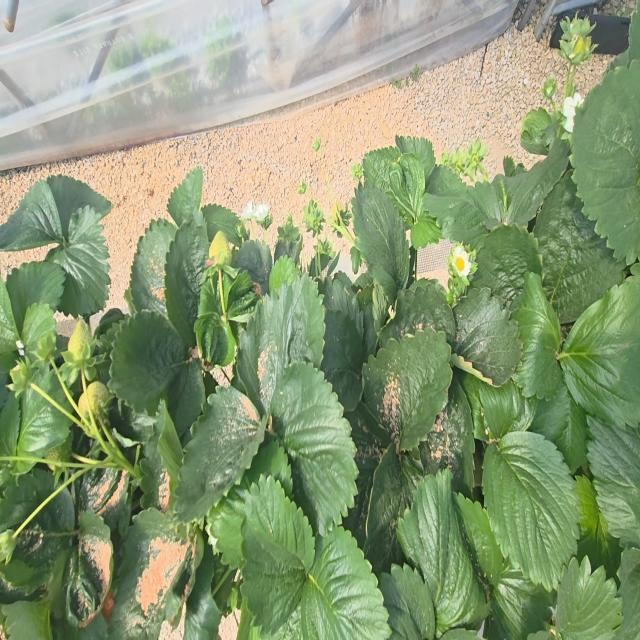Flowers: (562, 93, 583, 133), (451, 246, 471, 276), (252, 205, 272, 230), (240, 202, 253, 220)
Leaves: (482, 433, 579, 590), (270, 361, 358, 532), (399, 471, 486, 636), (570, 59, 640, 264), (533, 171, 623, 326), (175, 388, 267, 520), (237, 279, 324, 415), (241, 475, 314, 635), (560, 281, 640, 424), (105, 509, 192, 639), (362, 329, 452, 451), (300, 525, 391, 639), (0, 489, 75, 602), (109, 311, 188, 411), (364, 443, 423, 573), (352, 183, 410, 301), (452, 288, 521, 386), (49, 205, 110, 315), (588, 420, 640, 547), (512, 272, 562, 399), (420, 380, 474, 494), (554, 556, 622, 639), (165, 220, 209, 348), (503, 140, 568, 226), (65, 510, 112, 627), (471, 225, 542, 300), (17, 363, 73, 456), (485, 567, 555, 639), (128, 220, 177, 319), (575, 475, 621, 578), (140, 403, 183, 512), (321, 302, 364, 409), (381, 279, 455, 341), (0, 180, 64, 251), (6, 261, 66, 332), (380, 565, 436, 639), (47, 175, 111, 235), (0, 471, 53, 531), (207, 488, 245, 568), (388, 153, 425, 225), (167, 167, 203, 227), (0, 276, 20, 380), (236, 240, 273, 295), (202, 204, 247, 246), (21, 303, 55, 358), (0, 392, 20, 455), (11, 461, 36, 474)
Strawberries: (558, 15, 597, 101), (78, 381, 112, 420), (463, 137, 488, 180), (330, 203, 354, 245), (68, 319, 92, 359), (303, 199, 325, 236), (209, 231, 233, 264), (8, 362, 30, 394), (45, 436, 71, 461), (0, 530, 16, 564), (48, 463, 57, 472)
